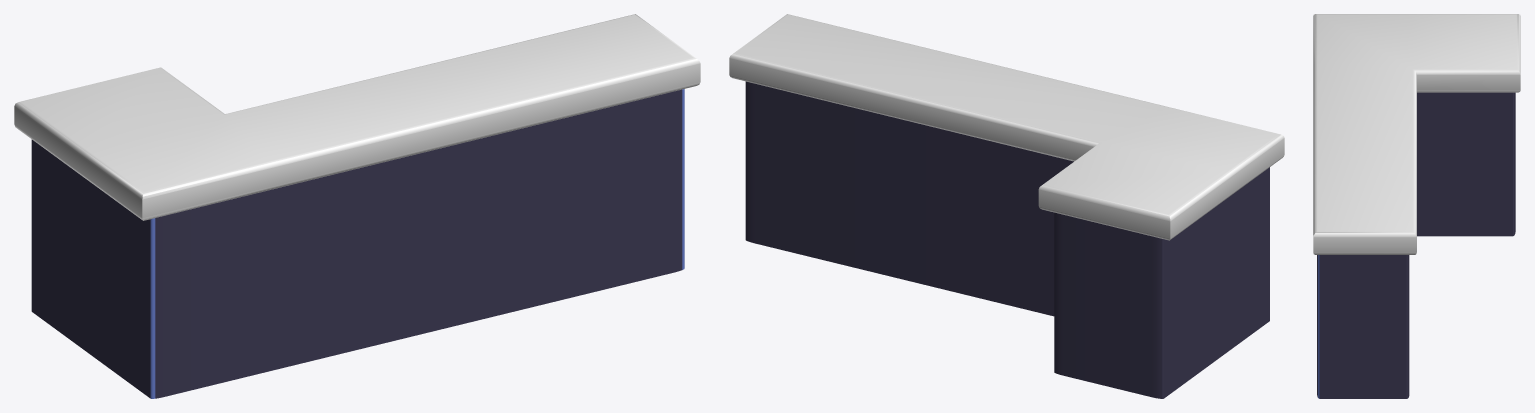
The model's file is BarTable.fbx.
3 renders of one model, left to right at view 1: azimuth 30°, elevation 25°; view 2: azimuth 150°, elevation 25°; view 3: azimuth 270°, elevation 25°, orthographic. The views are drawn at different scales.
Visible parts, largest first — view 1: BarTableUnder, BarTableUp; view 2: BarTableUnder, BarTableUp; view 3: BarTableUp, BarTableUnder.
Part boxes in pixels (x1=…): BarTableUnder: x1=31, y1=89, x2=684, y2=398; BarTableUp: x1=14, y1=14, x2=700, y2=220; BarTableUnder: x1=745, y1=81, x2=1269, y2=398; BarTableUp: x1=729, y1=14, x2=1284, y2=240; BarTableUp: x1=1313, y1=14, x2=1520, y2=254; BarTableUnder: x1=1317, y1=92, x2=1515, y2=398.
Bounding box in the file's own units: 644 × 231 × 256.
